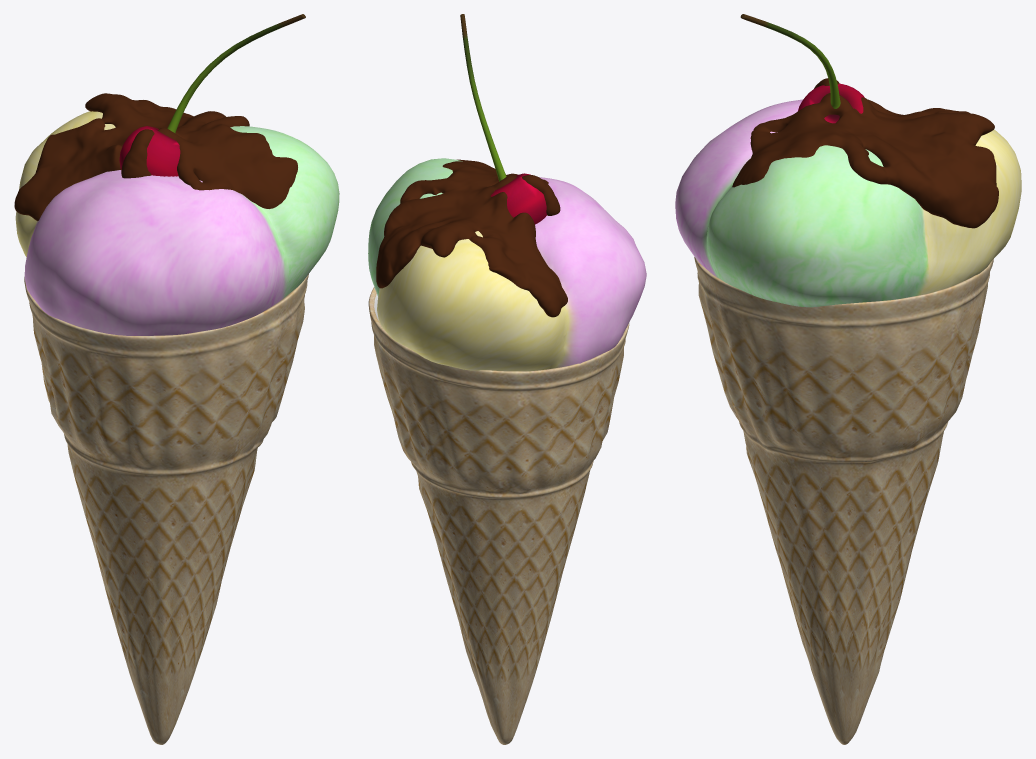
Rendered from icecream_seperated.fbx.
3 views of the same model, side by side, from view 1: azimuth 30°, elevation 25°; view 2: azimuth 150°, elevation 25°; view 3: azimuth 270°, elevation 25° (orthographic). The views are drawn at different scales.
Parts seen in each view (by area): view 1: 10861 Ice Cream_v1_LOD1.001, 10861 Ice Cream_v1_LOD1; view 2: 10861 Ice Cream_v1_LOD1, 10861 Ice Cream_v1_LOD1.001; view 3: 10861 Ice Cream_v1_LOD1, 10861 Ice Cream_v1_LOD1.001.
Part boxes in pixels (x1,y1,x2,y2): 10861 Ice Cream_v1_LOD1.001: [14, 14, 339, 335]; 10861 Ice Cream_v1_LOD1: [24, 274, 308, 744]; 10861 Ice Cream_v1_LOD1: [368, 287, 629, 744]; 10861 Ice Cream_v1_LOD1.001: [368, 14, 646, 371]; 10861 Ice Cream_v1_LOD1: [694, 257, 993, 744]; 10861 Ice Cream_v1_LOD1.001: [675, 14, 1021, 307].
Bounding box in the file's own units: 66.71 × 173 × 70.04.
